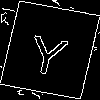Y: (25, 25, 73, 78)
